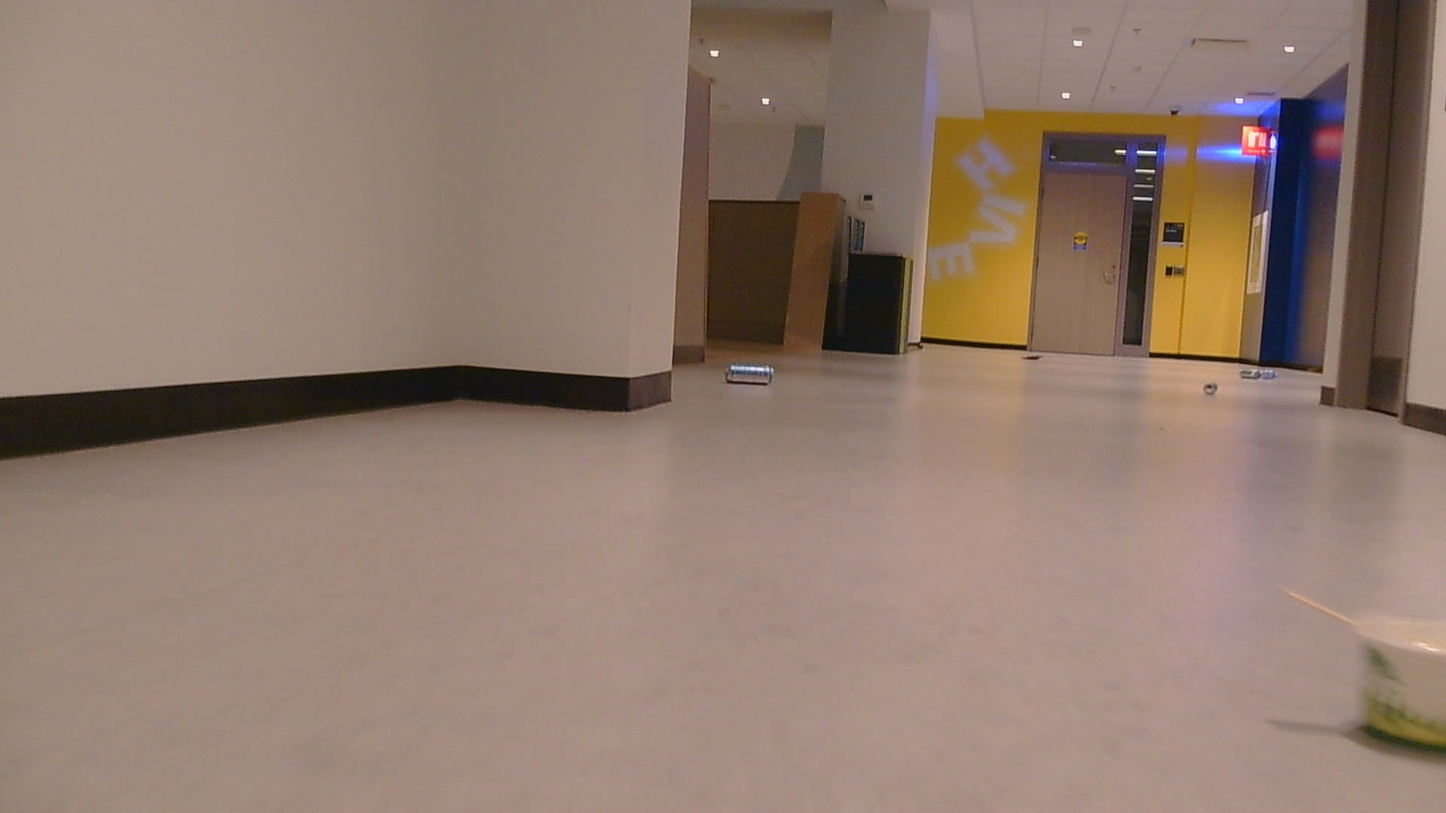carton: (1300, 598, 1446, 735), (720, 363, 788, 389), (1239, 360, 1283, 385), (1204, 376, 1214, 395), (1029, 349, 1044, 360)
